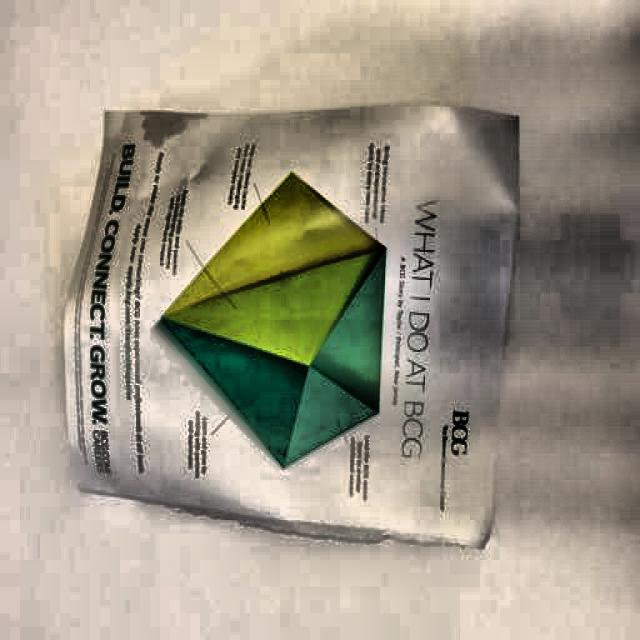paper: (66, 92, 516, 550)
